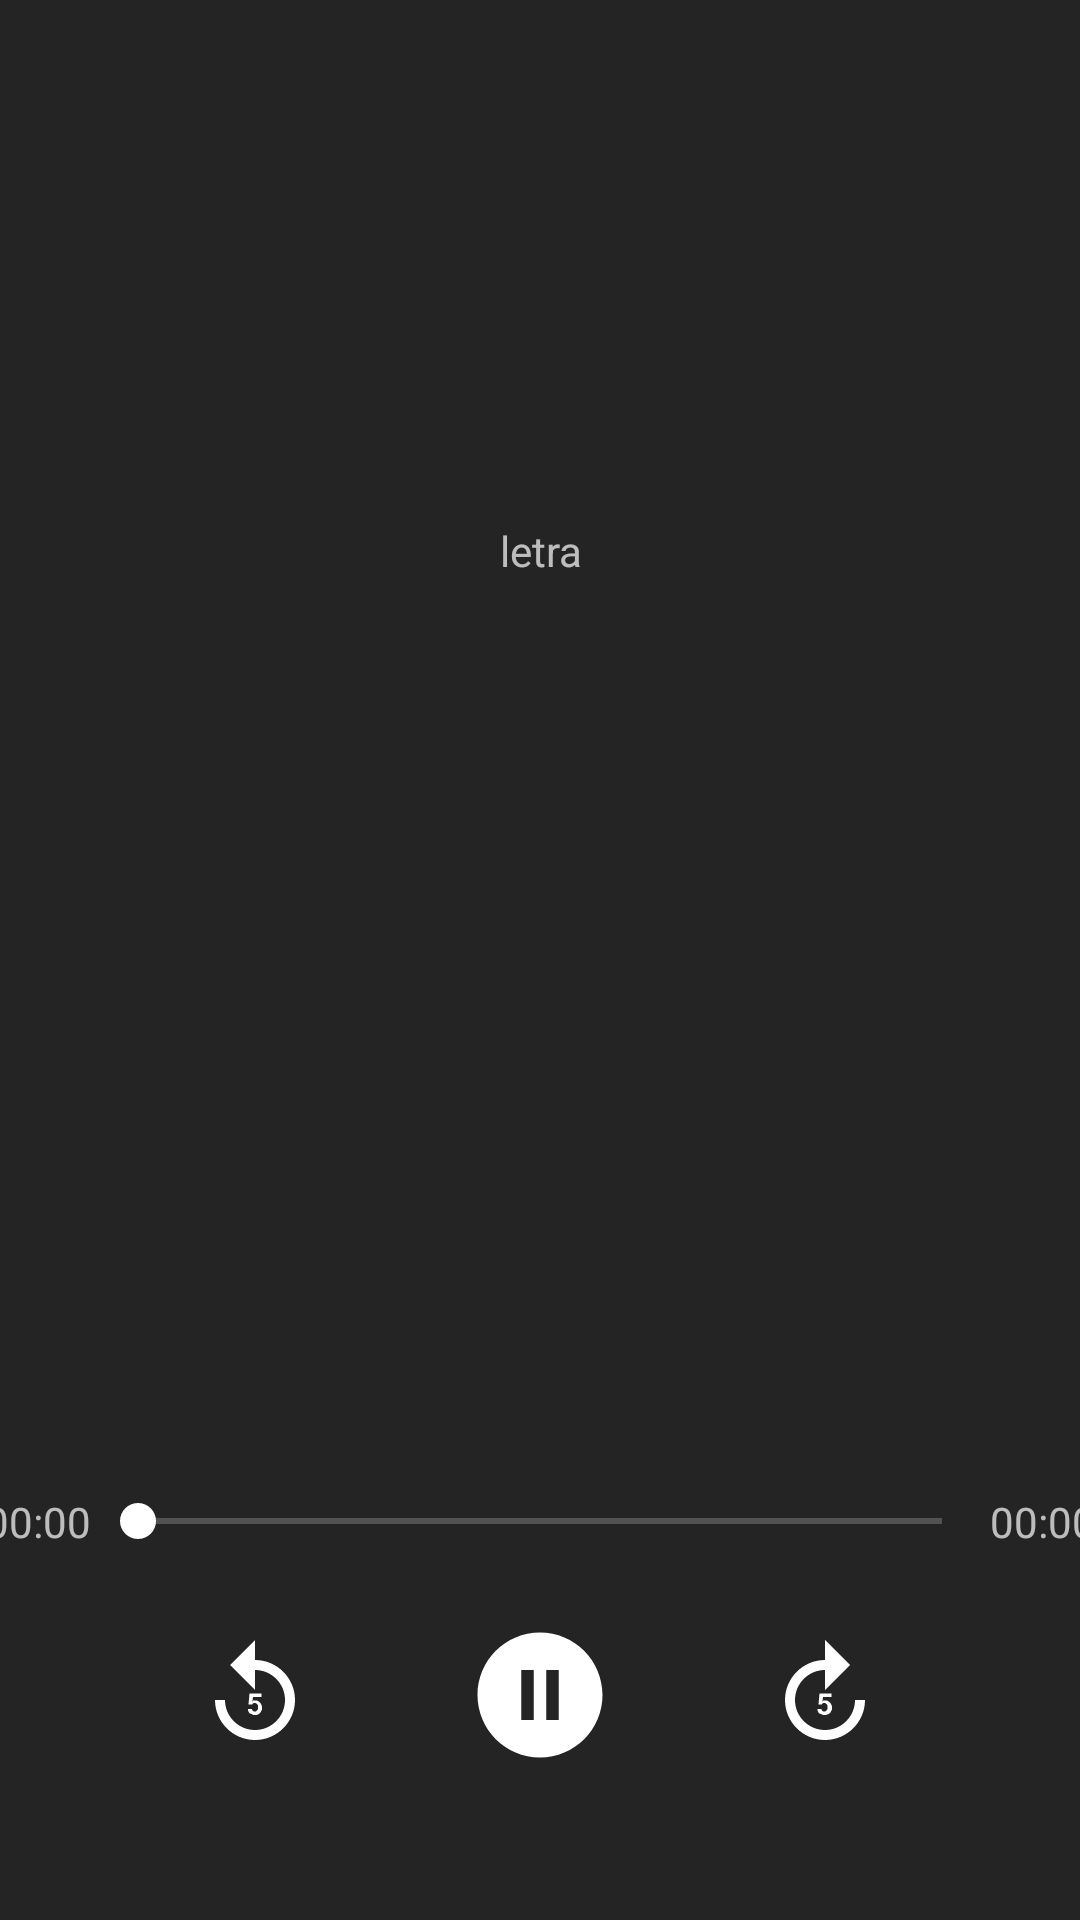

Screen size 1080px×1920px. Icon name, then its center in pixels as (x=x, y=y):
forward: (x=825, y=1690)
pause: (x=540, y=1695)
rewind: (x=255, y=1690)
